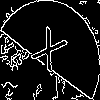X: (25, 25, 69, 82)
